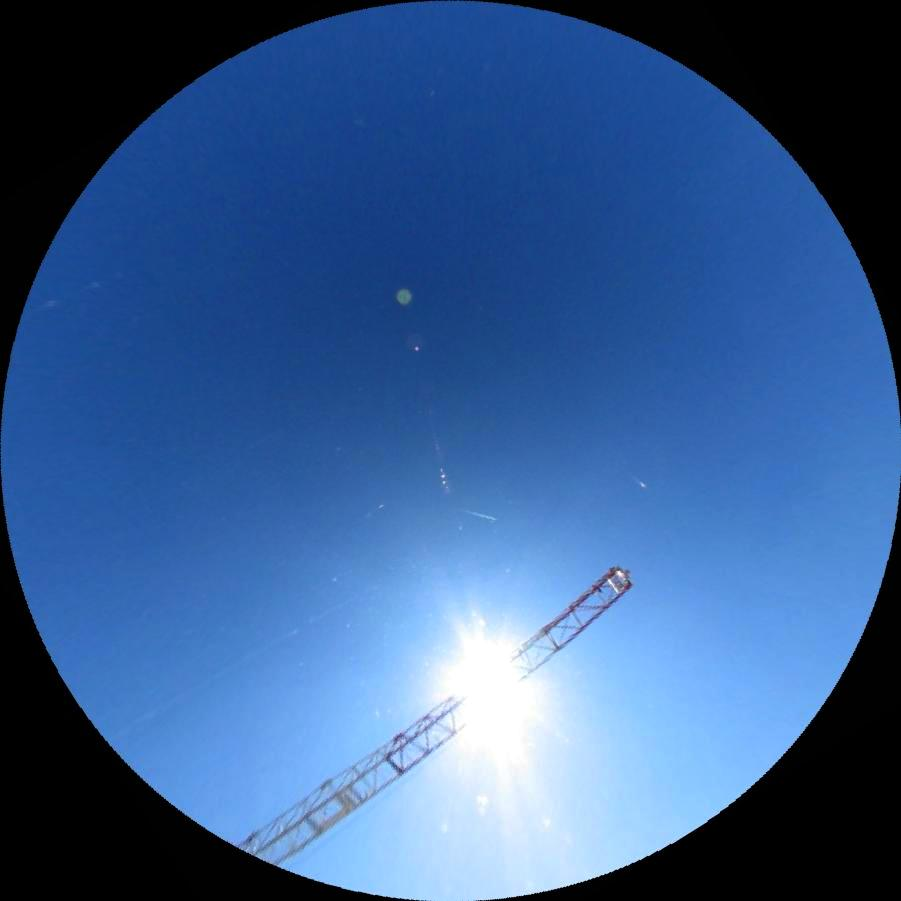contrail young: (462, 507, 498, 522)
sun: (416, 608, 555, 766)
